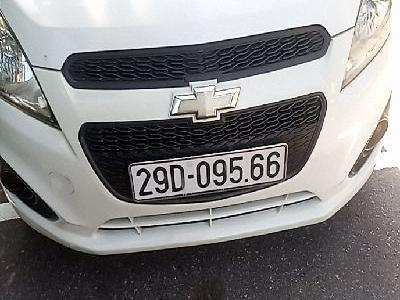number: (129, 144, 289, 202)
